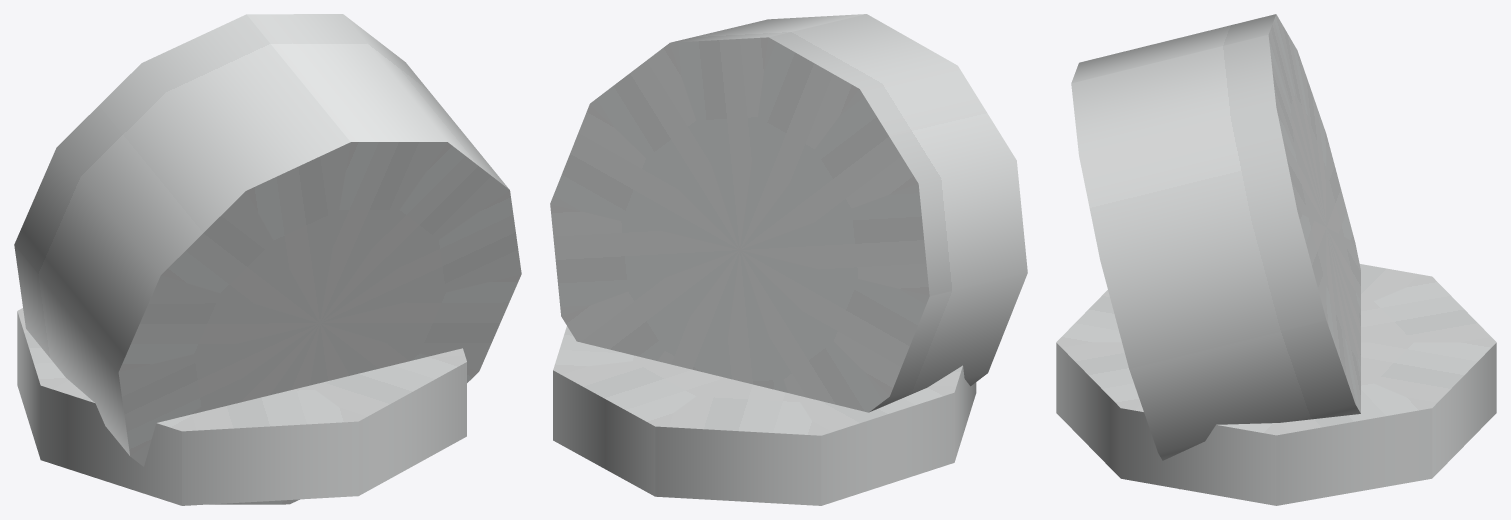
The model's file is trusssignalarm_stub_85.obj.
3 views of the same model, side by side, from view 1: azimuth 30°, elevation 25°; view 2: azimuth 150°, elevation 25°; view 3: azimuth 270°, elevation 25° (orthographic). The views are drawn at different scales.
Parts seen in each view (by area): view 1: trusssignalarm_stub_85; view 2: trusssignalarm_stub_85; view 3: trusssignalarm_stub_85.
Boxes of the visible parts, bbox=[...] form: trusssignalarm_stub_85: bbox=[14, 14, 521, 505]; trusssignalarm_stub_85: bbox=[550, 14, 1027, 505]; trusssignalarm_stub_85: bbox=[1056, 14, 1496, 505].
Size of the model in its own units: 0.35 by 0.3804 by 0.35.
